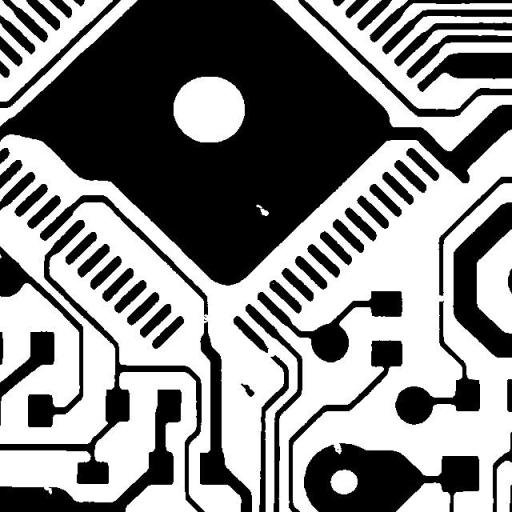copper: (232, 375, 262, 404)
mousebite: (326, 434, 348, 462), (36, 478, 59, 502)
open: (254, 340, 283, 366), (193, 306, 217, 330), (427, 287, 451, 310)
pin-hole: (248, 197, 276, 223)
